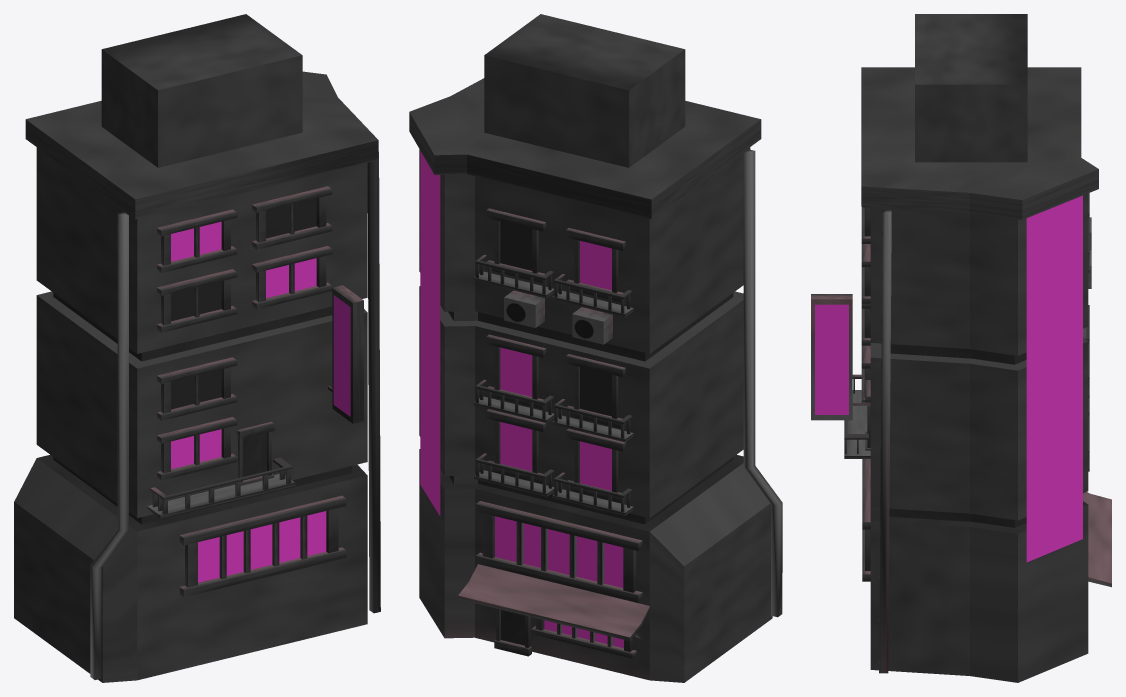
File: built_v2.glb
3 renders of one model, left to right at view 1: azimuth 30°, elevation 25°; view 2: azimuth 150°, elevation 25°; view 3: azimuth 270°, elevation 25°, orthographic.
Parts seen in each view (by area): view 1: Cube.100, Cube.087; view 2: Cube.100, Cube.087; view 3: Cube.100, Cube.087.
Boxes of the visible parts, x1,y1,x2,y2 form: Cube.100: [14, 14, 380, 682]; Cube.087: [171, 221, 350, 582]; Cube.100: [409, 14, 782, 682]; Cube.087: [420, 151, 623, 647]; Cube.100: [811, 14, 1111, 682]; Cube.087: [815, 195, 1082, 562].
Bounding box in the file's own units: 26.61 × 47.54 × 22.88.
Materials: 2 (1 with a texture image).
